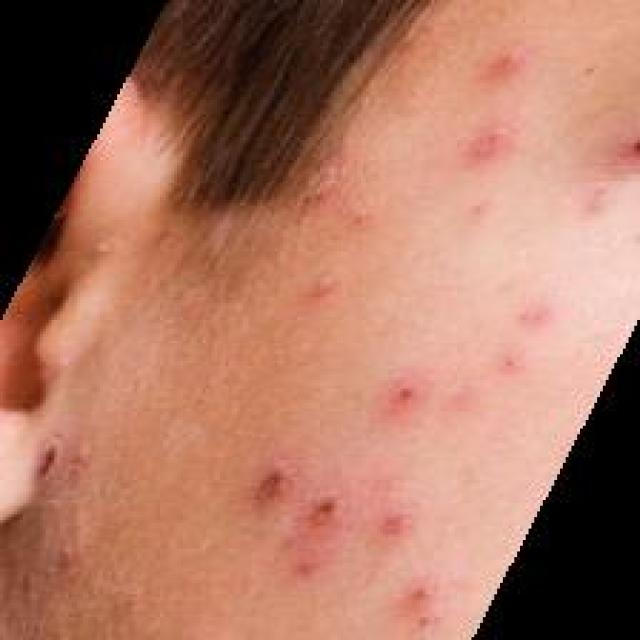others: (89, 77, 584, 640)
